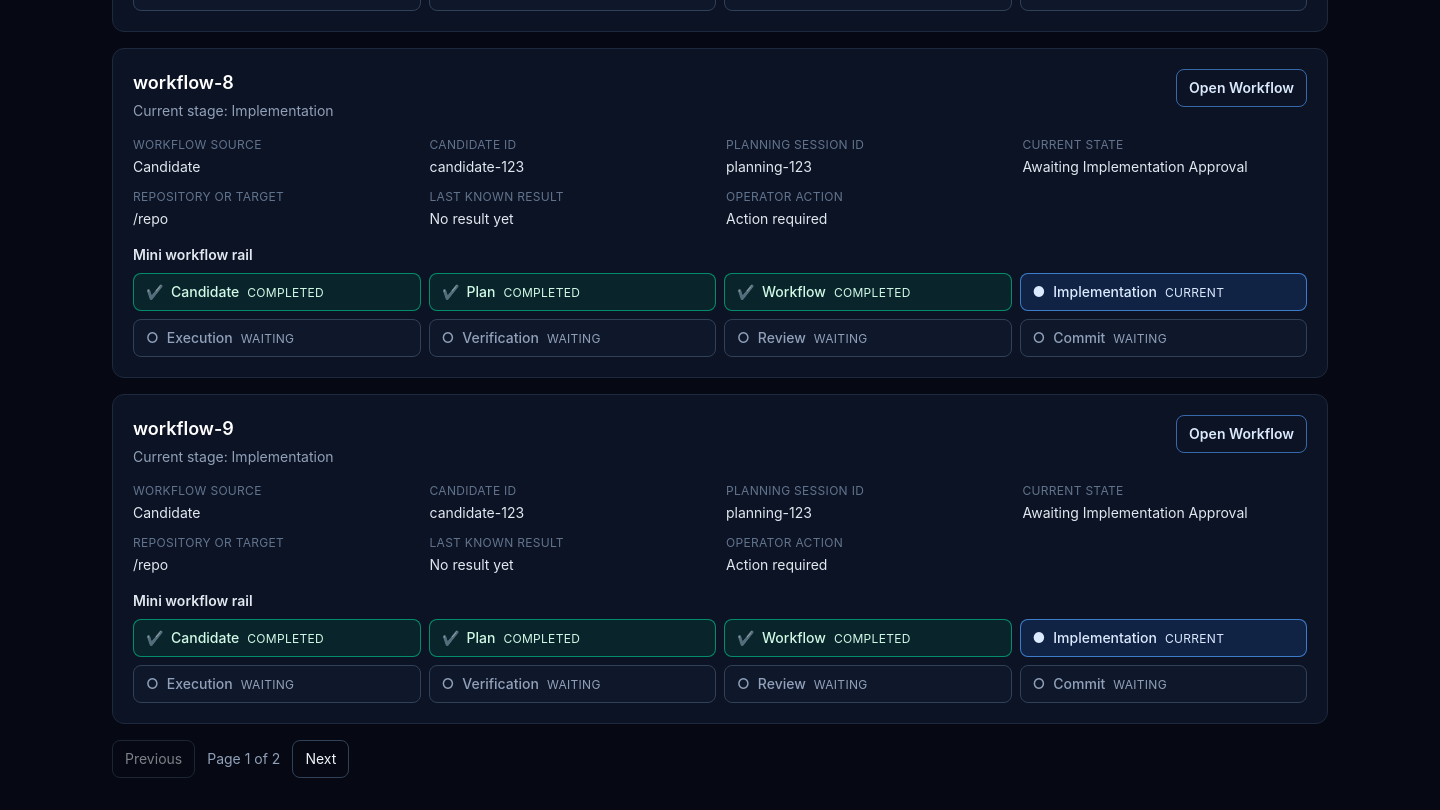
it: WorkflowDashboardPage › supports pagination when more returned workflows exist
(page scrolled)
Expected: the text "workflow-10" is not shown
Click the button "Next" at (321, 759), box [292,740,349,778]
(page scrolled)
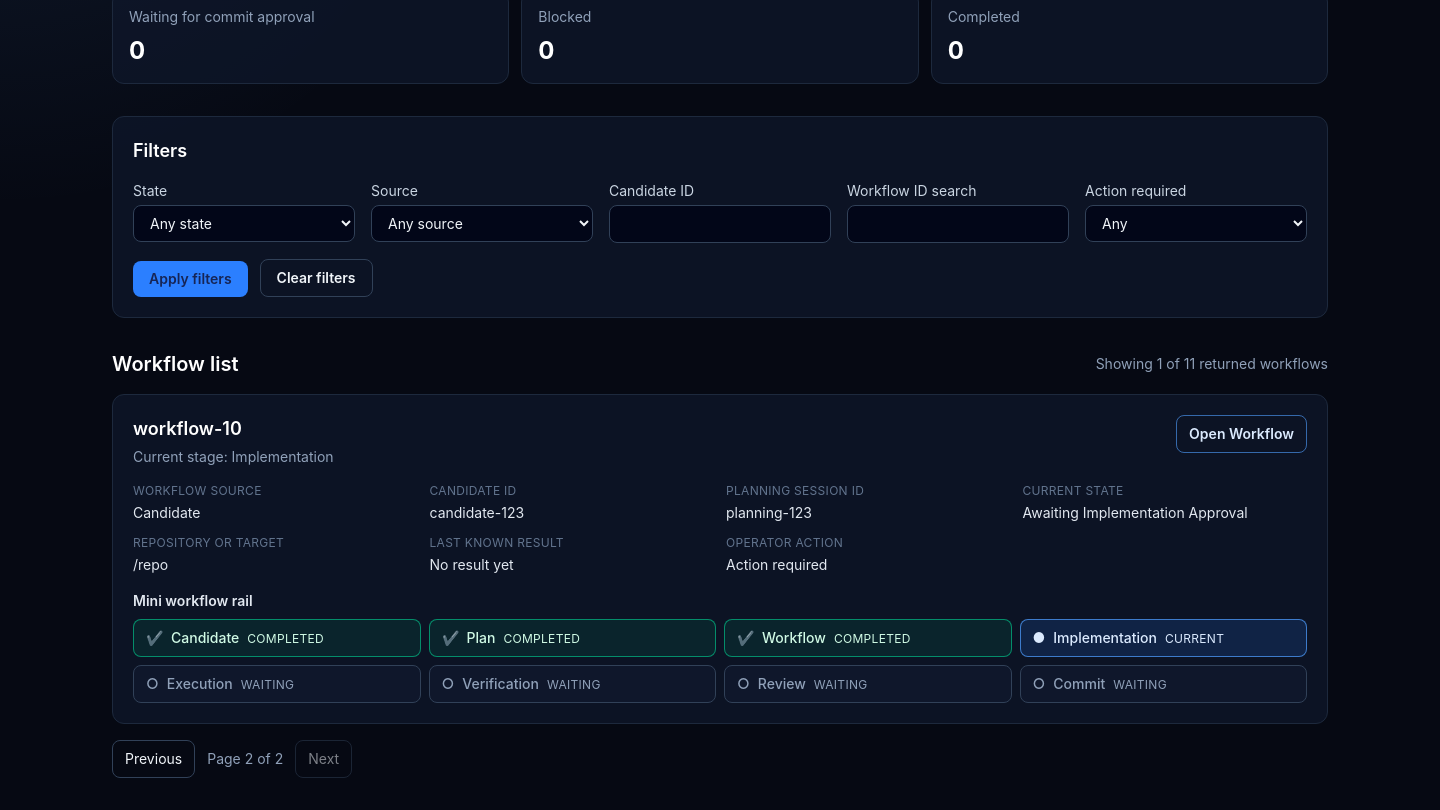
Now the heading "workflow-10" is shown, box [133,418,242,439]
